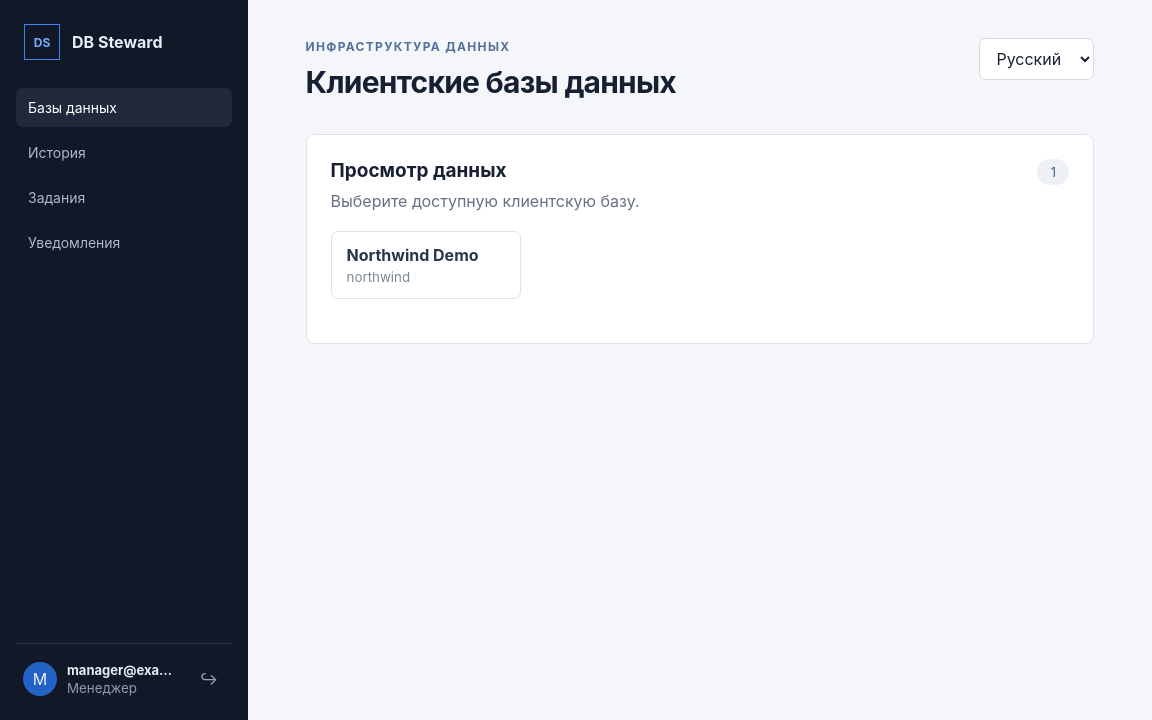
it: App › lets a manager open an assigned table
Step 1. Click the button "Northwind Demo northwind" → (426, 265), box [331,231,521,299]
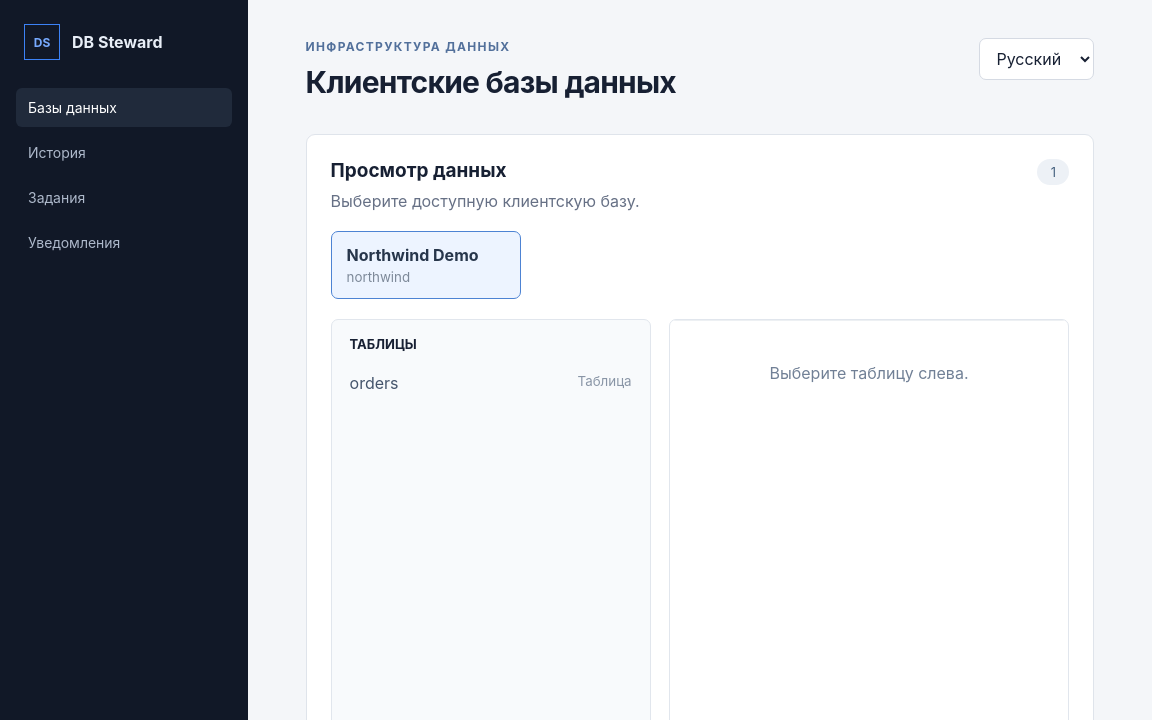
Step 2. Click the button "orders Таблица" → (374, 383), box [342,364,640,404]
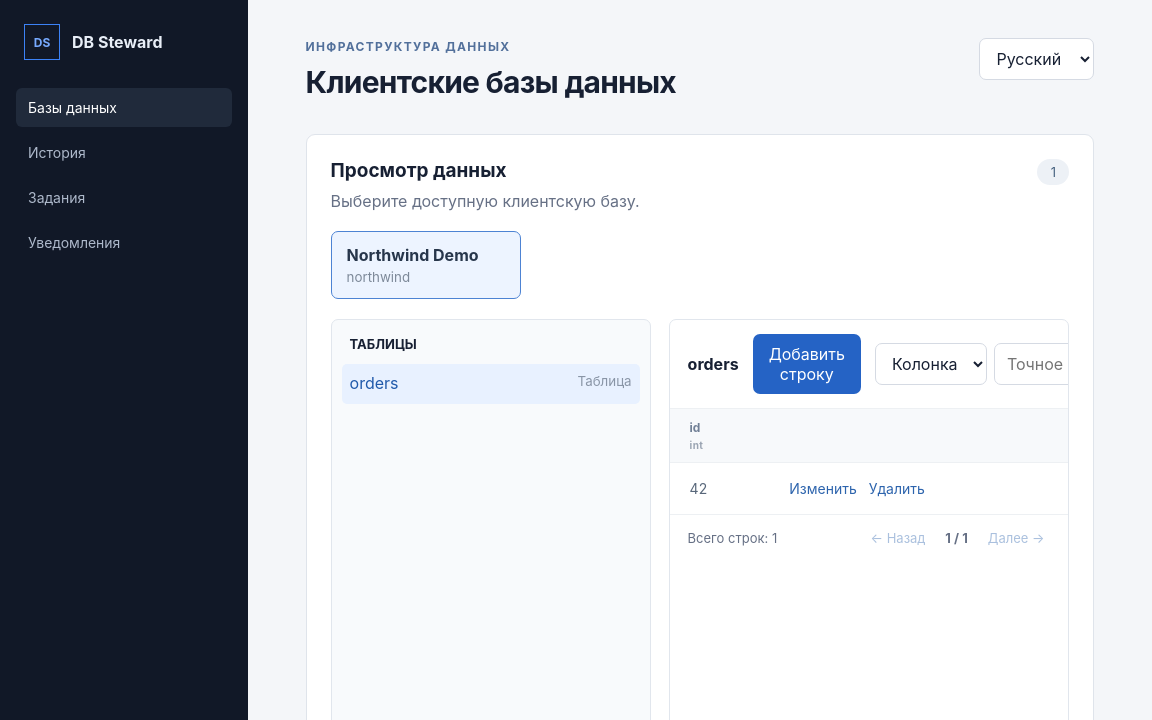
expect the text "42" is shown: met, box [670,463,763,514]
expect the text "Всего строк: 1" is shown: met, box [688,530,777,546]
Step 3. Click the button "Задания" → (124, 198), box [16,178,232,217]
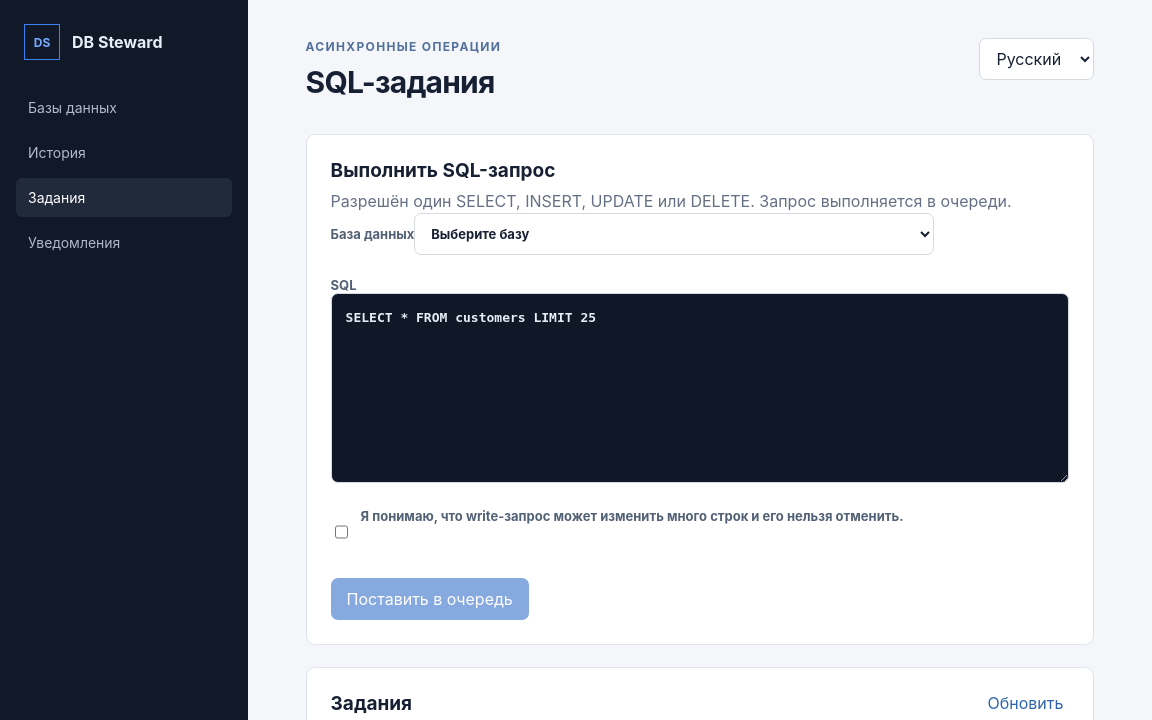
expect the text "Выполнить SQL-запрос" is shown: met, box [331,159,555,182]
expect the text "Поставить в очередь" is shown: met, box [331,578,529,620]
